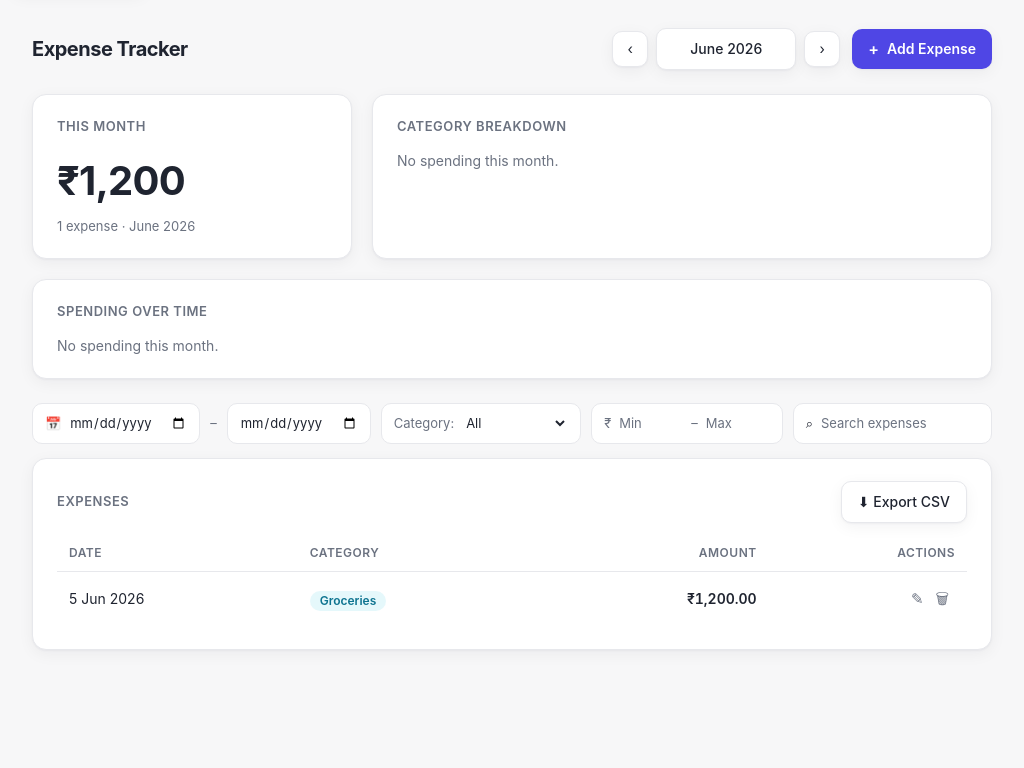
it: App — Phase 7 exit: add/edit/delete update the dashboard live › deletes an expense after confirm: the row disappears and the empty state shows live
Expected: the text "5 Jun 2026" is shown, [57, 572, 298, 626]
Click the button named "Delete expense": [942, 599] box [930, 584, 955, 614]
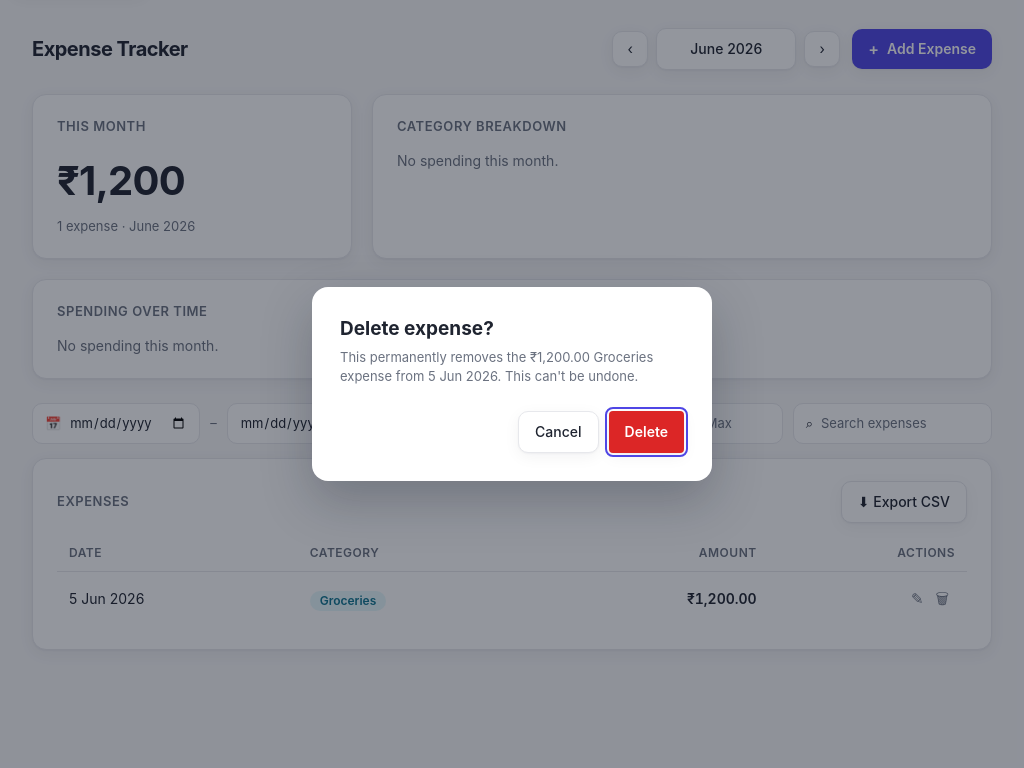
Result: the heading "Delete expense?" is shown at [340, 317, 494, 340]
Click the button "Delete": [646, 432] box [609, 411, 684, 453]
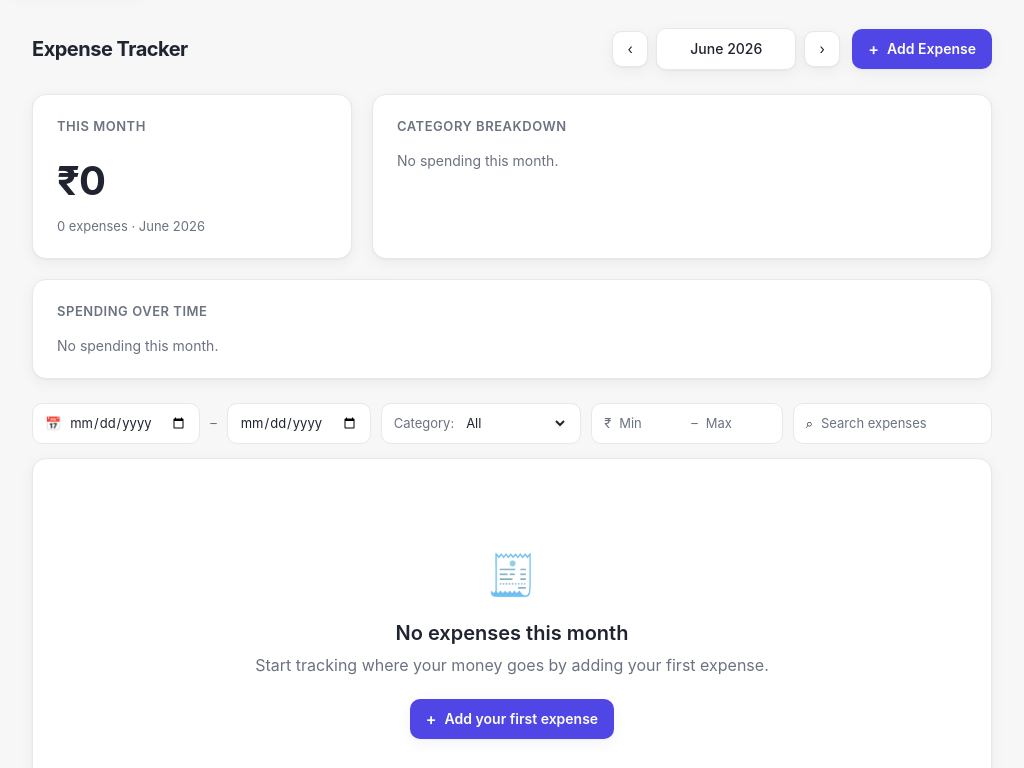
Result: the heading "No expenses this month" is shown at [396, 621, 628, 645]
Result: the text "5 Jun 2026" is gone
Result: the text "₹0" is shown at [57, 156, 105, 204]
